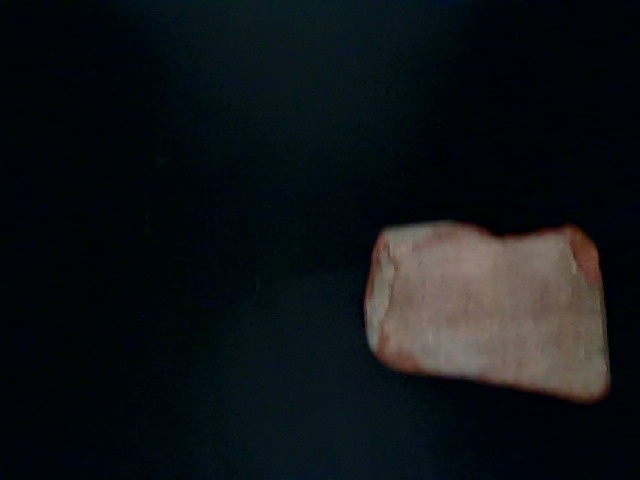KHSLJ: (432, 338, 436, 342)
